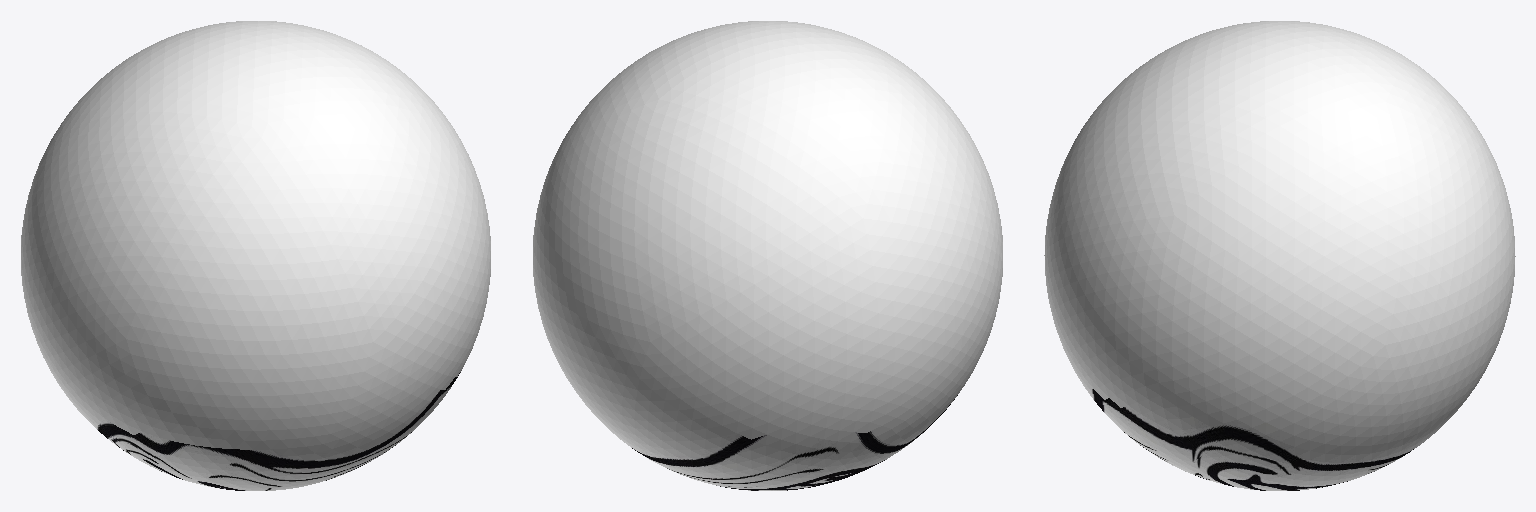
The picture shows the model from 3 angles: view 1: azimuth 30°, elevation 25°; view 2: azimuth 150°, elevation 25°; view 3: azimuth 270°, elevation 25°; orthographic projection.
Parts seen in each view (by area): view 1: Object.1; view 2: Object.1; view 3: Object.1.
Part boxes in pixels (left/top/right/bottom): Object.1: left=21, top=21, right=490, bottom=490; Object.1: left=533, top=21, right=1002, bottom=490; Object.1: left=1044, top=21, right=1515, bottom=490.
Bounding box in the file's own units: 40 × 40 × 40.
2 materials, 1 textured.